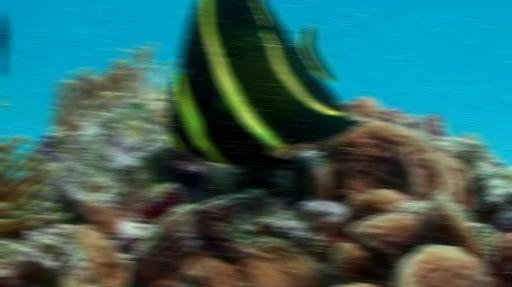Fish: (165, 0, 362, 167)
